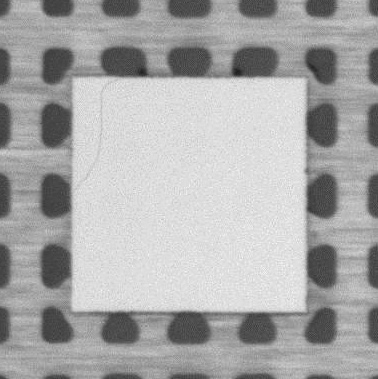DIE_CRACK: (73, 78, 119, 192)
